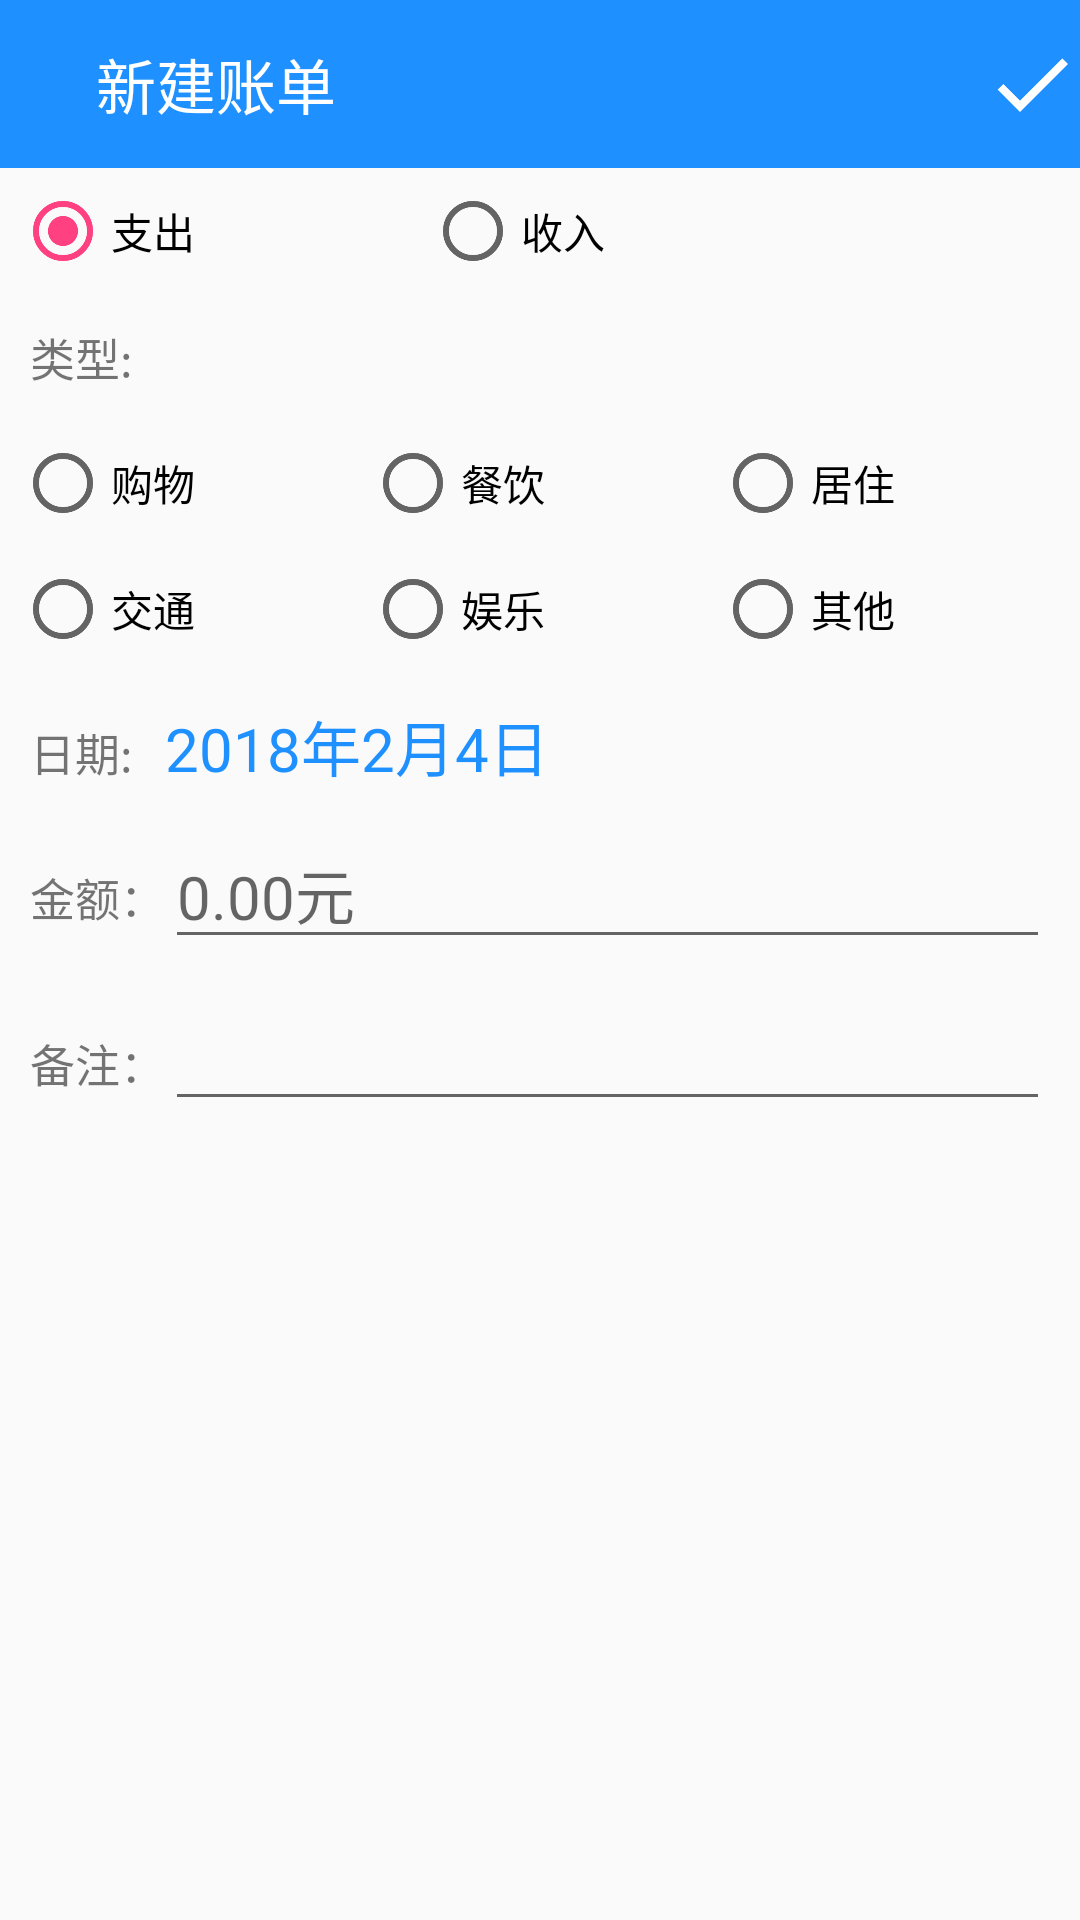

Locate icon controls on the screen. Image size 1080*1920, boxes as (x1, y1, x2, y2).
save: (998, 58, 1068, 112)
